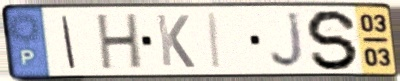H: (96, 11, 144, 73)
I: (59, 13, 78, 71), (207, 10, 225, 71)
J: (268, 9, 308, 71)
K: (154, 12, 198, 70)
S: (304, 8, 362, 72)
